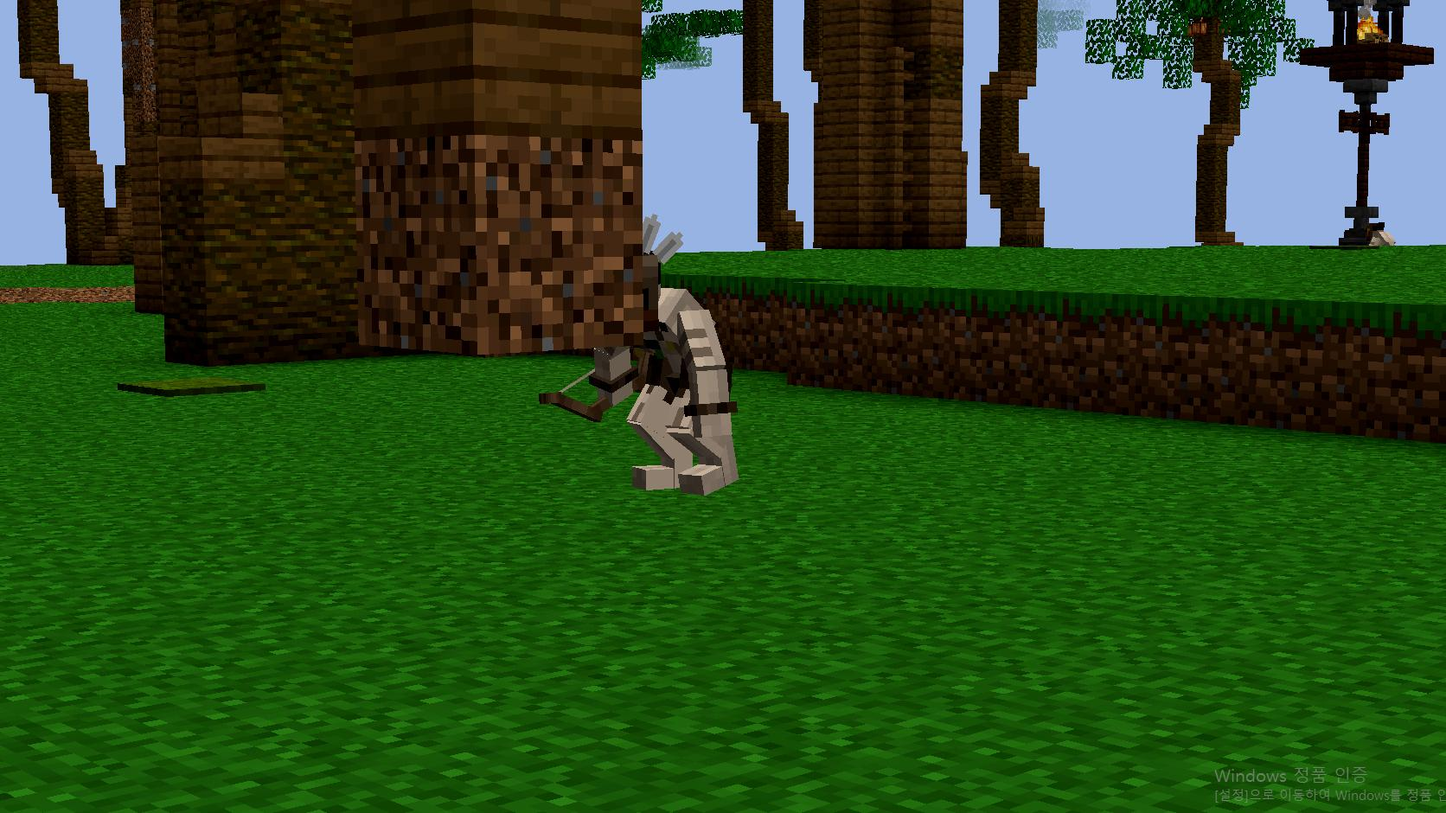bow_indian: (565, 237, 738, 494)
